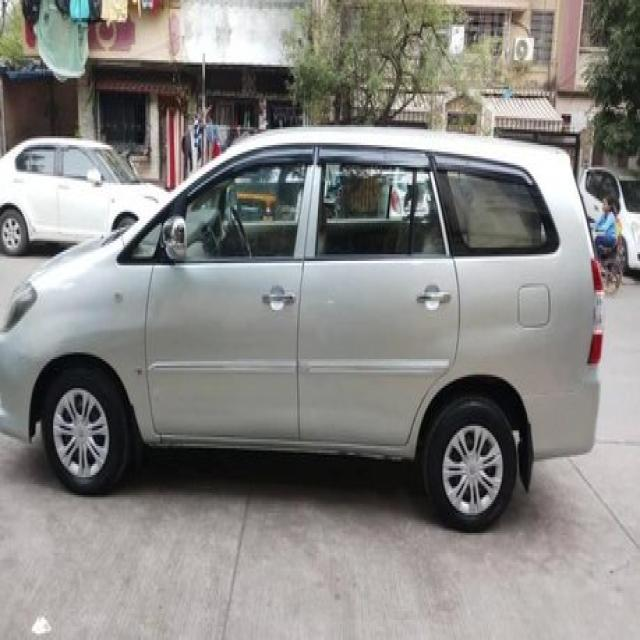light_vehicle: (0, 125, 608, 533)
